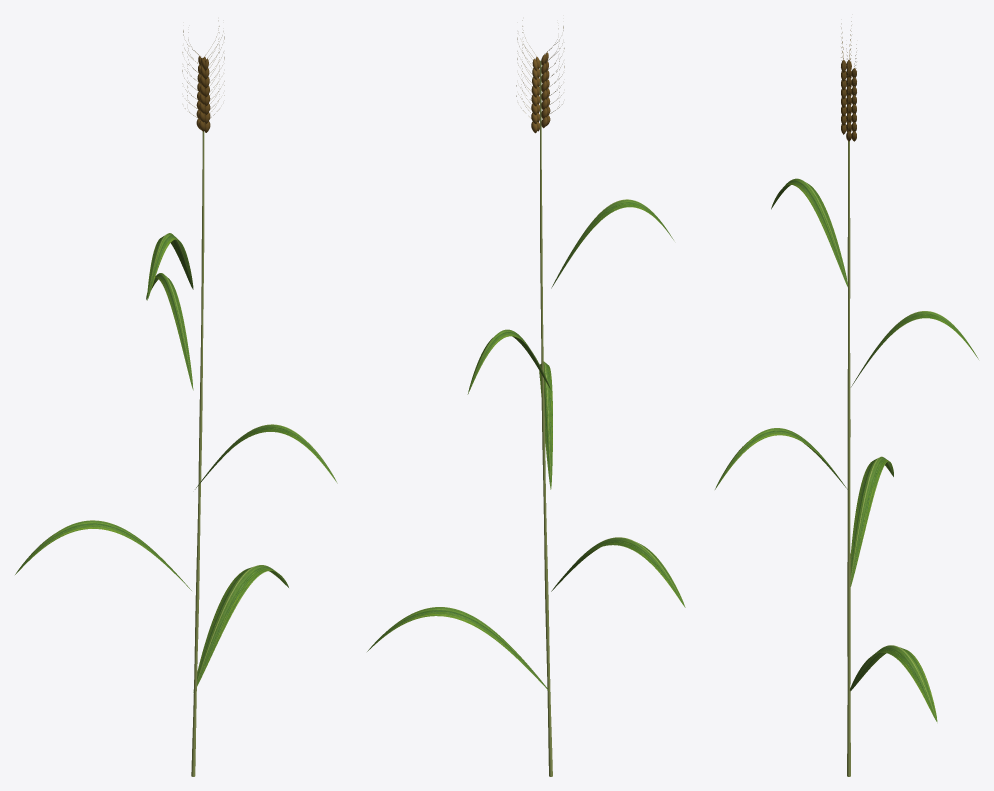
The model's file is wheat.glb.
3 views of the same model, side by side, from view 1: azimuth 30°, elevation 25°; view 2: azimuth 150°, elevation 25°; view 3: azimuth 270°, elevation 25° (orthographic).
Visible parts, largest first — view 1: Stage1 authored wheat; view 2: Stage1 authored wheat; view 3: Stage1 authored wheat.
Boxes of the visible parts, x1,y1,x2,y2 form: Stage1 authored wheat: (15, 20, 337, 776); Stage1 authored wheat: (367, 20, 685, 776); Stage1 authored wheat: (715, 21, 978, 776).
Size of the model in its own units: 0.5246 by 1.28 by 0.4056.
4 materials, 2 textured.
